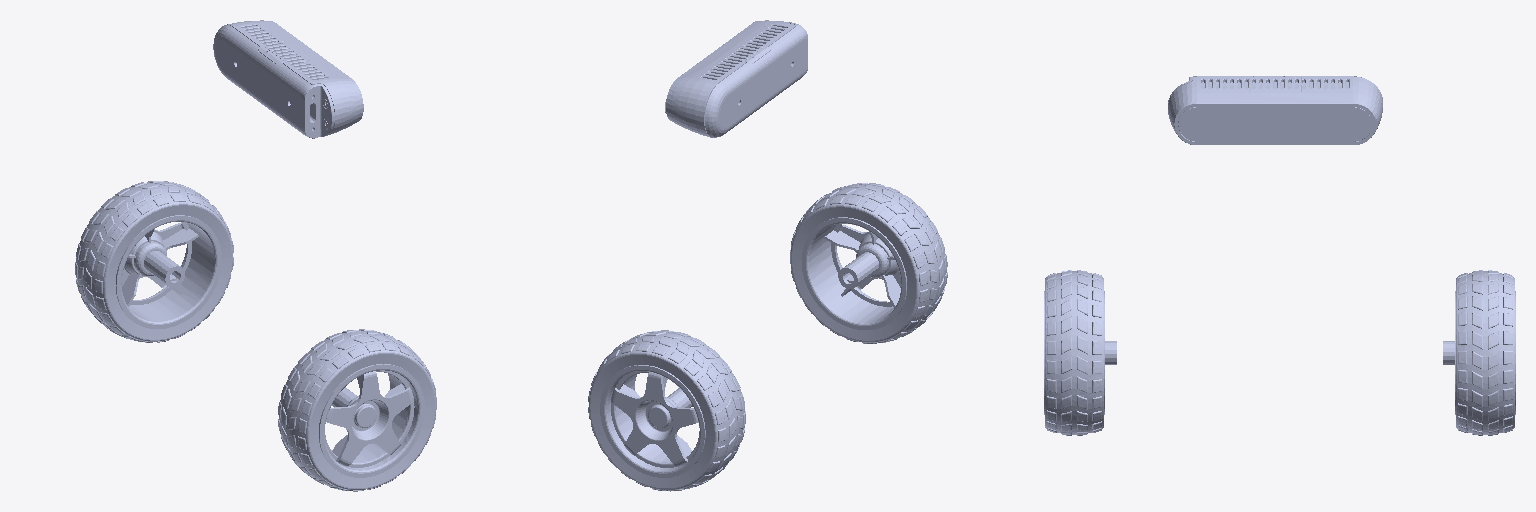
URDF robot description (jetbot_description):
<?xml version="1.0" encoding="utf-8"?>
<!-- This URDF was automatically created by SolidWorks to URDF Exporter! Originally created by [author] ([email redacted]) 
     Commit Version: 1.6.0-4-g7f85cfe  Build Version: 1.6.7995.38578
     For more information, please see http://wiki.ros.org/sw_urdf_exporter -->
<robot
  name="jetbot_description">
  <link
    name="base_link">
    <inertial>
      <origin
        xyz="0.0420959690163131 -0.0262640139018914 0.0381031259713721"
        rpy="0 0 0" />
      <mass
        value="0.769809092579164" />
      <inertia
        ixx="0.00145919153749444"
        ixy="-3.19598949639506E-08"
        ixz="-1.88742924762225E-07"
        iyy="0.00115895294422066"
        iyz="8.79841731610717E-06"
        izz="0.00230237029404094" />
    </inertial>
    <visual>
      <origin
        xyz="-0.105 -0.04 0.011"
        rpy="0 0 1.5708" />
      <geometry>
        <mesh
          filename="package://jetbot_description/meshes/base_link.STL" />
      </geometry>
      <material
        name="">
        <color
          rgba="0.752941176470588 0.752941176470588 0.752941176470588 1" />
      </material>
    </visual>
    <collision>
      <origin
        xyz="-0.105 -0.04 0.011"
        rpy="0 0 1.5708" />
      <geometry>
        <mesh
          filename="package://jetbot_description/meshes/base_link.STL" />
      </geometry>
    </collision>
  </link>
  <link
    name="right_wheel">
    <inertial>
      <origin
        xyz="-1.85861018103806E-08 -1.31927746505056E-09 0.0181270123819045"
        rpy="0 0 0" />
      <mass
        value="0.166945648008942" />
      <inertia
        ixx="6.72964134165884E-05"
        ixy="5.95216693282123E-12"
        ixz="3.19966028425365E-12"
        iyy="6.72926792753044E-05"
        iyz="2.24052087793533E-13"
        izz="0.000113206411587751" />
    </inertial>
    <visual>
      <origin
        xyz="0 0 0"
        rpy="0 0 0" />
      <geometry>
        <mesh
          filename="package://jetbot_description/meshes/right_wheel.STL" />
      </geometry>
      <material
        name="">
        <color
          rgba="0.792156862745098 0.819607843137255 0.933333333333333 1" />
      </material>
    </visual>
    <collision>
      <origin
        xyz="0 0 0"
        rpy="0 0 0" />
      <geometry>
        <mesh
          filename="package://jetbot_description/meshes/right_wheel.STL" />
      </geometry>
    </collision>
  </link>
  <joint
    name="joint_rw"
    type="fixed">
    <origin
      xyz="0 -0.066063 0"
      rpy="1.5708 0 0" />
    <parent
      link="base_link" />
    <child
      link="right_wheel" />
    <axis
      xyz="0 0 1" />
  </joint>
  <link
    name="left_wheel">
    <inertial>
      <origin
        xyz="-1.85861068133231E-08 -1.31927280211386E-09 0.0181270123819045"
        rpy="0 0 0" />
      <mass
        value="0.166945648008941" />
      <inertia
        ixx="6.72964134165889E-05"
        ixy="5.95215985162579E-12"
        ixz="3.19966267206997E-12"
        iyy="6.7292679275299E-05"
        iyz="2.24050359829625E-13"
        izz="0.00011320641158775" />
    </inertial>
    <visual>
      <origin
        xyz="0 0 0"
        rpy="0 0 0" />
      <geometry>
        <mesh
          filename="package://jetbot_description/meshes/left_wheel.STL" />
      </geometry>
      <material
        name="">
        <color
          rgba="0.792156862745098 0.819607843137255 0.933333333333333 1" />
      </material>
    </visual>
    <collision>
      <origin
        xyz="0 0 0"
        rpy="0 0 0" />
      <geometry>
        <mesh
          filename="package://jetbot_description/meshes/left_wheel.STL" />
      </geometry>
    </collision>
  </link>
  <joint
    name="joint_lw"
    type="fixed">
    <origin
      xyz="0 0.06994 0"
      rpy="1.5708 0 3.1416" />
    <parent
      link="base_link" />
    <child
      link="left_wheel" />
    <axis
      xyz="0 0 1" />
  </joint>
  <link
    name="intel_d435">
    <inertial>
      <origin
        xyz="0.00111199100986521 -2.78348572908815E-05 -0.0125996884137267"
        rpy="0 0 0" />
      <mass
        value="1.26688353681071" />
      <inertia
        ixx="0.00011453127936713"
        ixy="-4.05581854153719E-08"
        ixz="1.13413795729694E-05"
        iyy="0.000771597084670348"
        iyz="2.05555121770648E-07"
        izz="0.000763733376205703" />
    </inertial>
    <visual>
      <origin
        xyz="0 0 0"
        rpy="0 0 0" />
      <geometry>
        <mesh
          filename="package://jetbot_description/meshes/intel_d435.STL" />
      </geometry>
      <material
        name="">
        <color
          rgba="0.792156862745098 0.819607843137255 0.933333333333333 1" />
      </material>
    </visual>
    <collision>
      <origin
        xyz="0 0 0"
        rpy="0 0 0" />
      <geometry>
        <mesh
          filename="package://jetbot_description/meshes/intel_d435.STL" />
      </geometry>
    </collision>
  </link>
  <joint
    name="joint_camera"
    type="fixed">
    <origin
      xyz="0.027 0 0.1175"
      rpy="1.5708 0 1.5708" />
    <parent
      link="base_link" />
    <child
      link="intel_d435" />
    <axis
      xyz="0 0 0" />
  </joint>
  <link
    name="laser">
    <inertial>
      <origin
        xyz="-0.078492857115907 0.744427355564884 0.133450452865628"
        rpy="0 0 0" />
      <mass
        value="0.0730824507861898" />
      <inertia
        ixx="1.95800481655615E-05"
        ixy="-4.28350883711767E-07"
        ixz="1.04071090439431E-07"
        iyy="4.14185690527821E-05"
        iyz="-9.38711334679144E-09"
        izz="2.41260123210317E-05" />
    </inertial>
    <visual>
      <origin
        xyz="0.09 0.132 -0.763"
        rpy="1.5708 0 0" />
      <geometry>
        <mesh
          filename="package://jetbot_description/meshes/rplidar_a1.STL" />
      </geometry>
      <material
        name="">
        <color
          rgba="0.752941176470588 0.752941176470588 0.752941176470588 1" />
      </material>
    </visual>
    <collision>
      <origin
        xyz="0.09 0.132 -0.763"
        rpy="1.5708 0 0" />
      <geometry>
        <mesh
          filename="package://jetbot_description/meshes/rplidar_a1.STL" />
      </geometry>
    </collision>
  </link>
  <joint
    name="joint_laser"
    type="fixed">
    <origin
      xyz="-0.1325 0.015 0.1485"
      rpy="0 0 -1.5708" />
    <parent
      link="base_link" />
    <child
      link="laser" />
    <axis
      xyz="0 0 0" />
  </joint>
</robot>

--- Render facts (derived) ---
3 views of the same robot in one strip: view 1: azimuth 30°, elevation 25°; view 2: azimuth 150°, elevation 25°; view 3: azimuth 270°, elevation 25° (orthographic).
Model jetbot_description with 5 links and 4 joints (4 fixed), rooted at base_link, posed all joints at 0.
Links seen in each view (by area): view 1: left_wheel, right_wheel, intel_d435; view 2: right_wheel, left_wheel, intel_d435; view 3: intel_d435, right_wheel, left_wheel.
Boxes of the visible links, x1,y1,x2,y2 form: left_wheel: (75,181,233,342); right_wheel: (278,329,436,491); intel_d435: (213,20,363,138); right_wheel: (790,183,947,343); left_wheel: (588,330,745,491); intel_d435: (665,20,807,137); intel_d435: (1168,76,1382,144); right_wheel: (1044,270,1116,435); left_wheel: (1443,270,1515,435).
Bounding box of the posed robot: 0.0689 × 0.196 × 0.1644 m (x, y, z).
Meshes: 5 distinct files referenced, 3 mesh visuals loaded (3 binary STL); not drawn: 2 (reference not matched to a file when rendering).